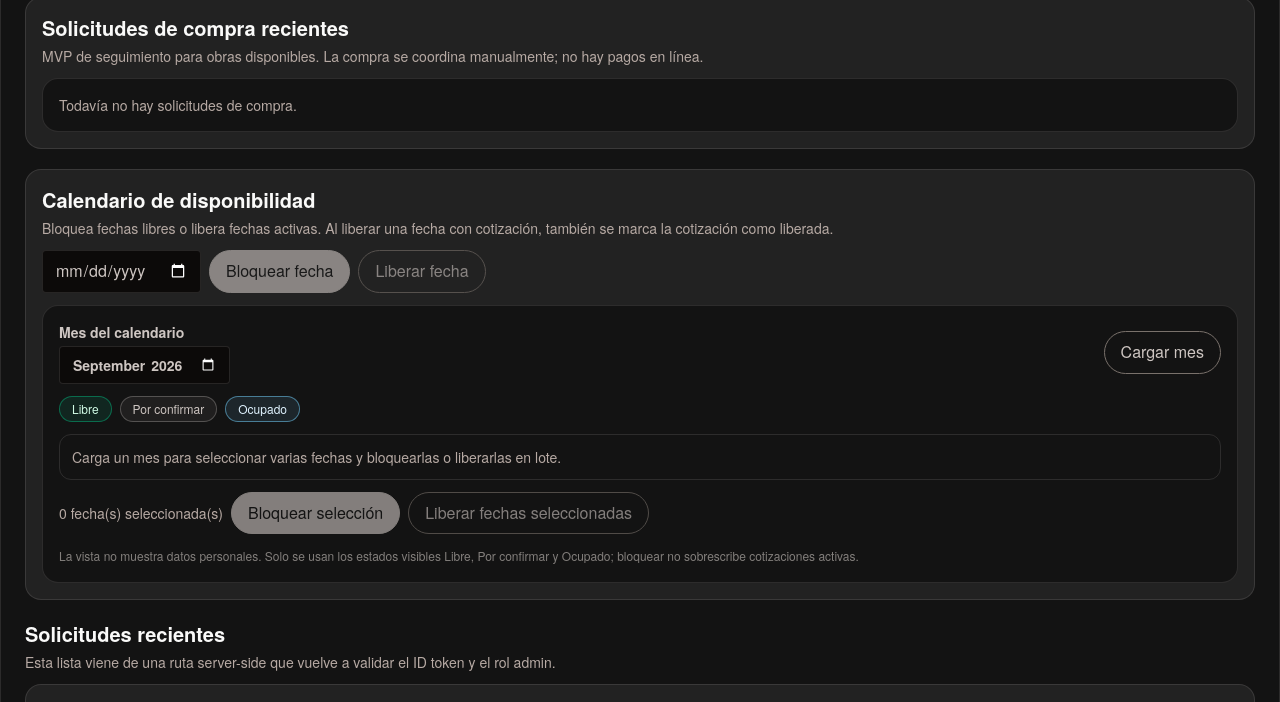
Test: AdminStatusPanel › refreshes recent quotes after loading an admin calendar month
(page scrolled)
Click the button "Cargar mes".
click(1162, 353)  # box left=1104, top=331, right=1221, bottom=374
(page scrolled)
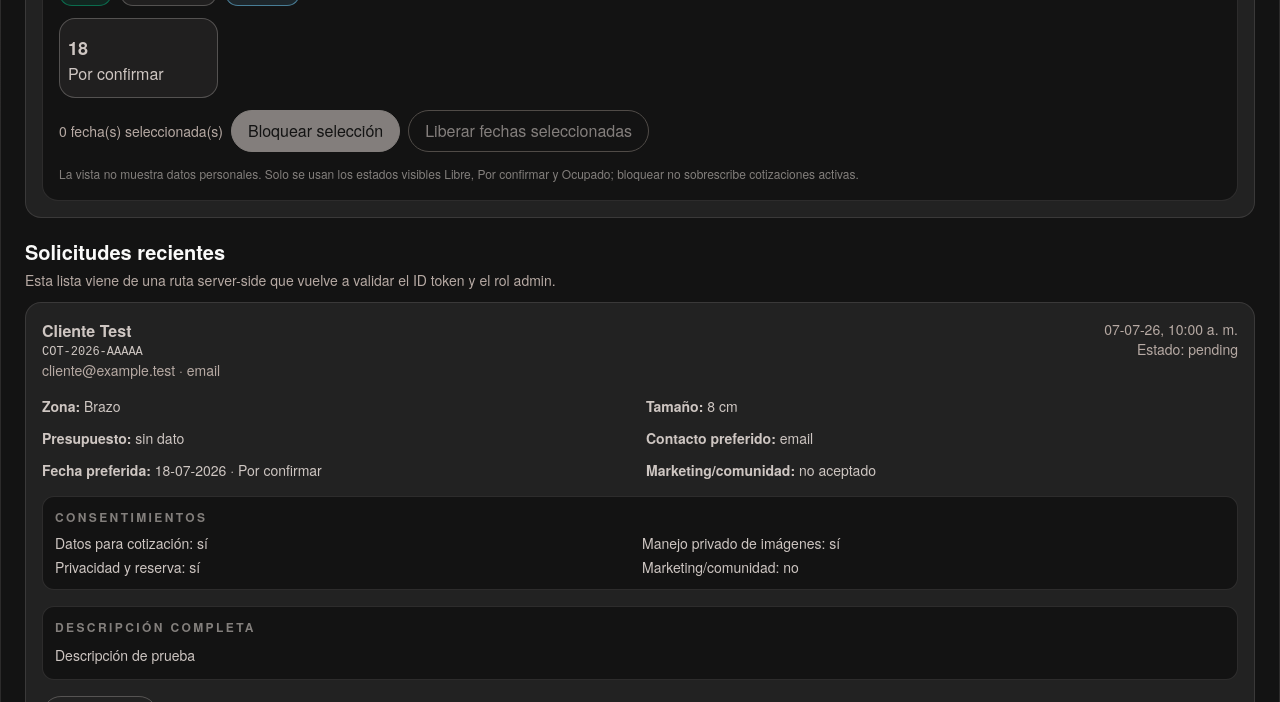
Check: the text "COT-2026-AAAAA" is shown, box left=42, top=345, right=143, bottom=359
